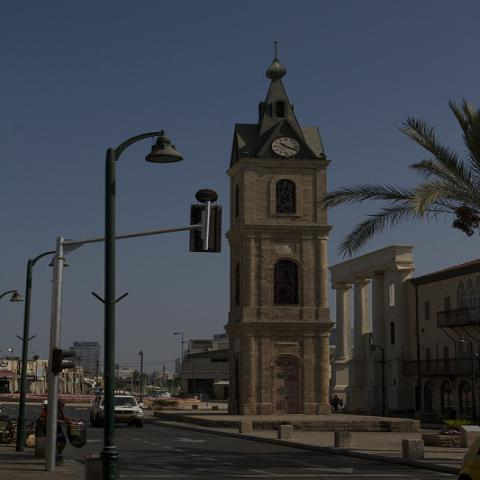car: (87, 394, 145, 428)
